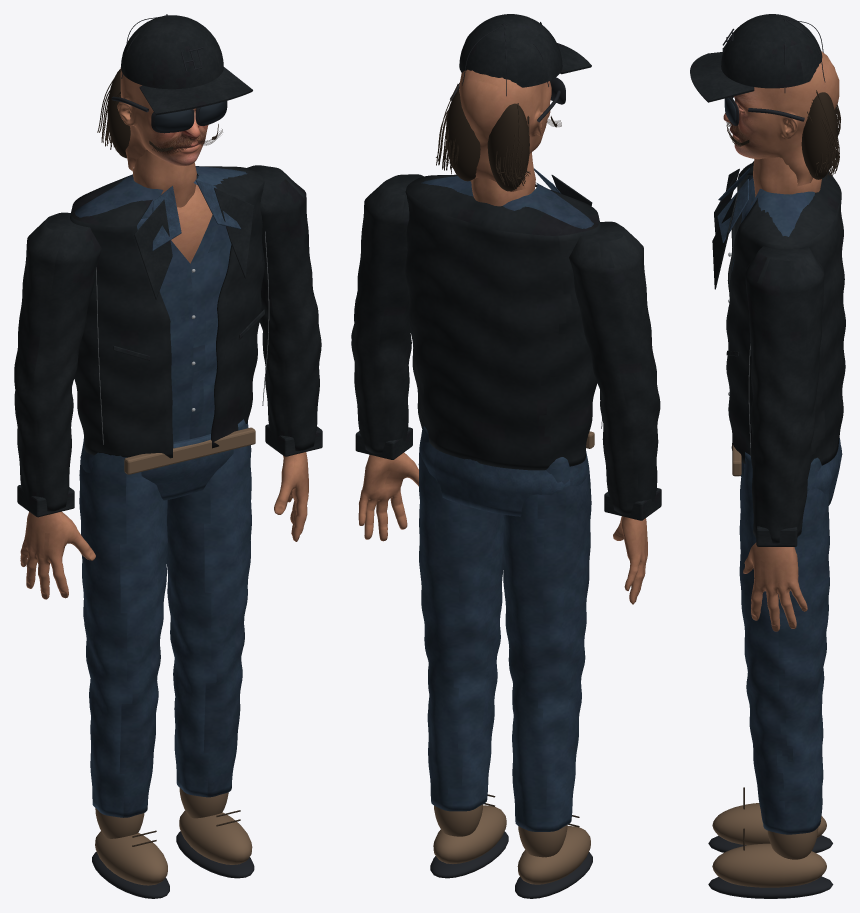
File: companion-placement.glb
The picture shows the model from 3 angles, left to right: view 1: azimuth 30°, elevation 25°; view 2: azimuth 150°, elevation 25°; view 3: azimuth 270°, elevation 25°; orthographic projection.
Parts seen in each view (by area): view 1: FullBody; view 2: FullBody; view 3: FullBody.
Boxes of the visible parts, x1,y1,x2,y2 form: FullBody: (14,14,322,898); FullBody: (351,14,661,898); FullBody: (690,14,845,898).
Bounding box in the file's own units: 0.6755 × 1.84 × 0.3042.
11 materials, 5 textured.
